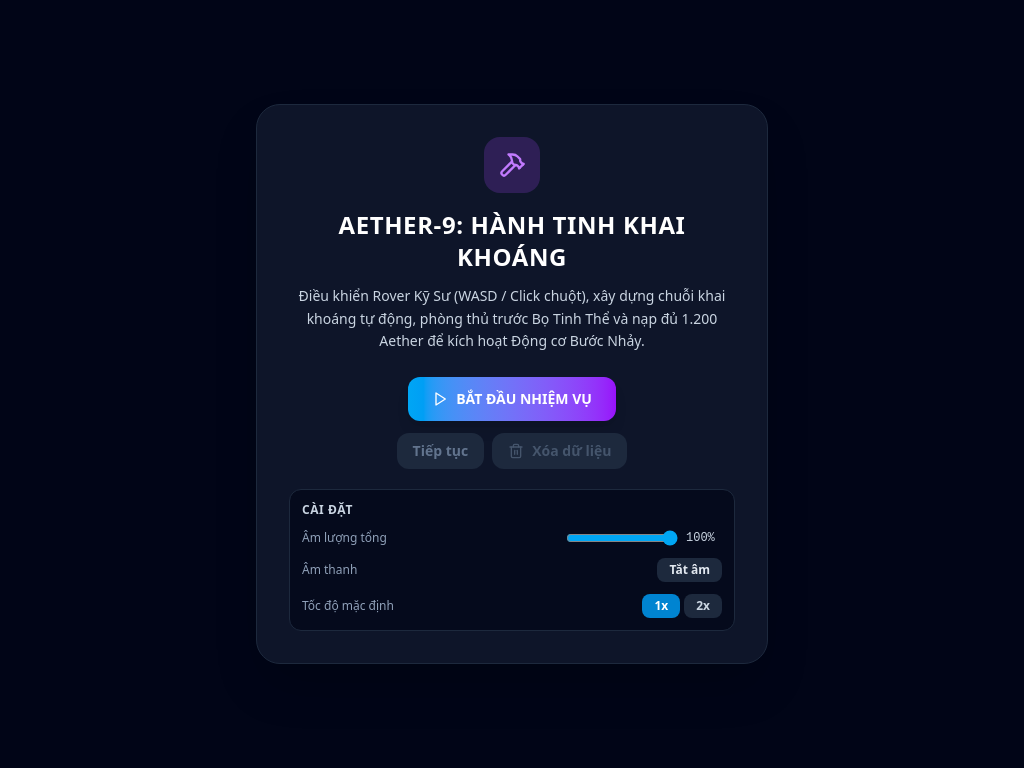
Test: AetherGame: save/load controls › manual saves while paused and continues the latest save on a fresh mount
Later steps or results of the test are not shown.
Step 1. Click the button "BẮT ĐẦU NHIỆM VỤ" → [512, 399], box [408,377,616,421]
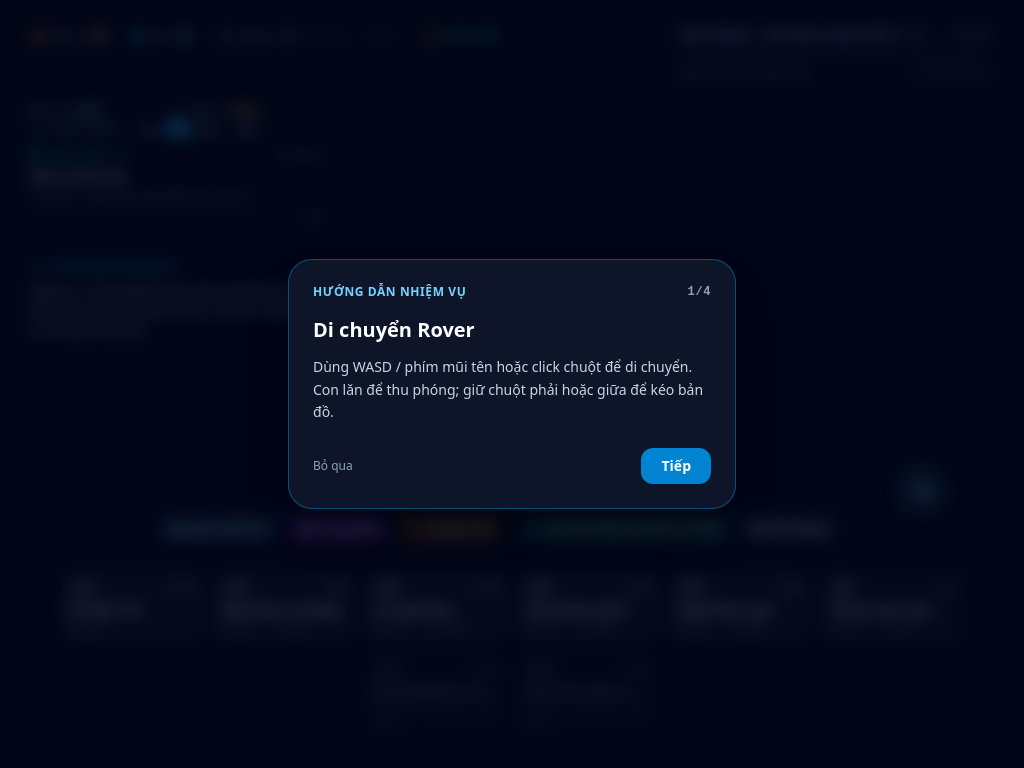
Step 2. Click the button "Bỏ qua" → [333, 466], box [313,458,353,474]
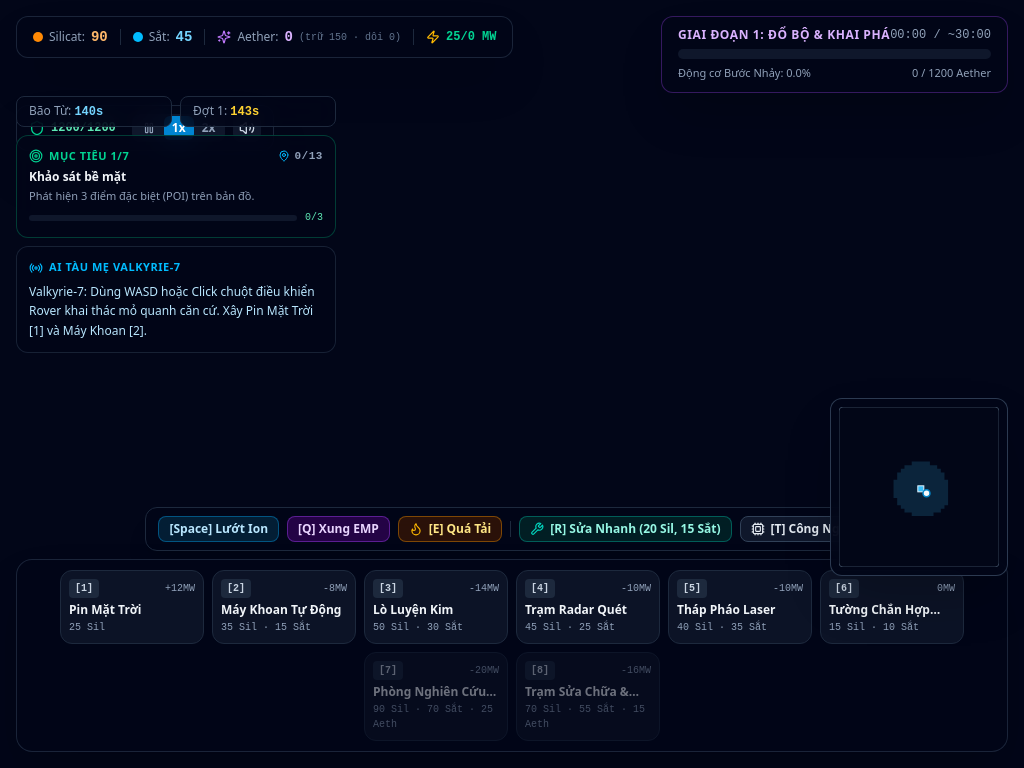
Step 3. Click the button named "Tạm dừng" → [149, 128], box [134,116,164,138]
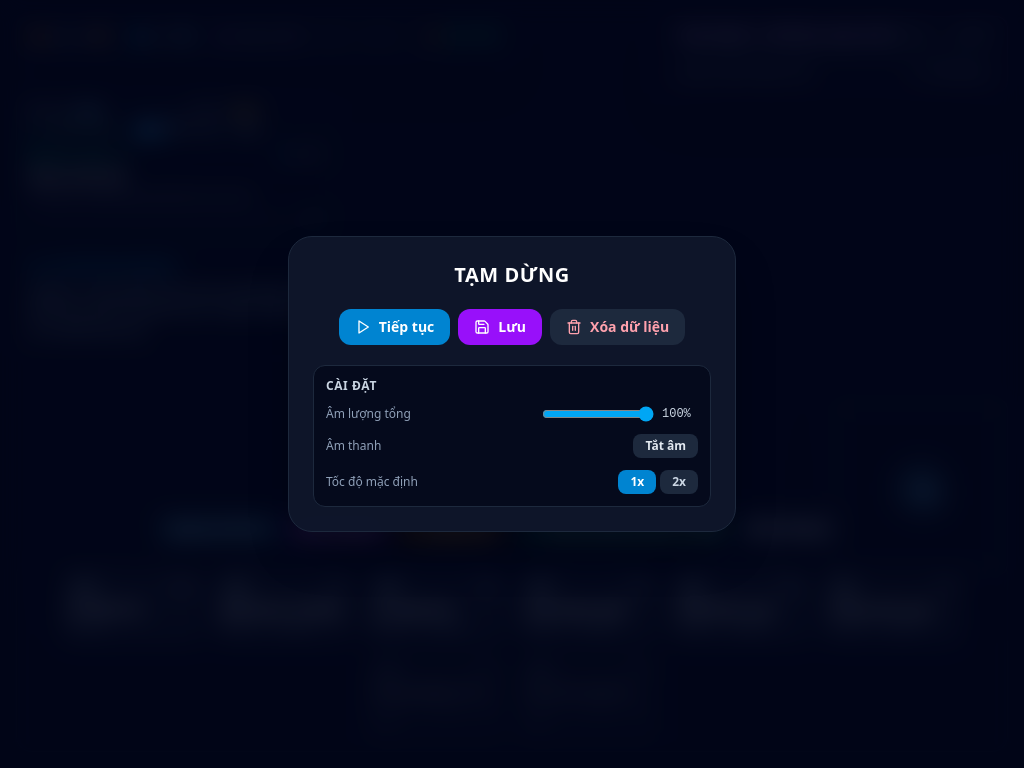
Result: the heading "TẠM DỪNG" is shown at [454,261,570,288]
